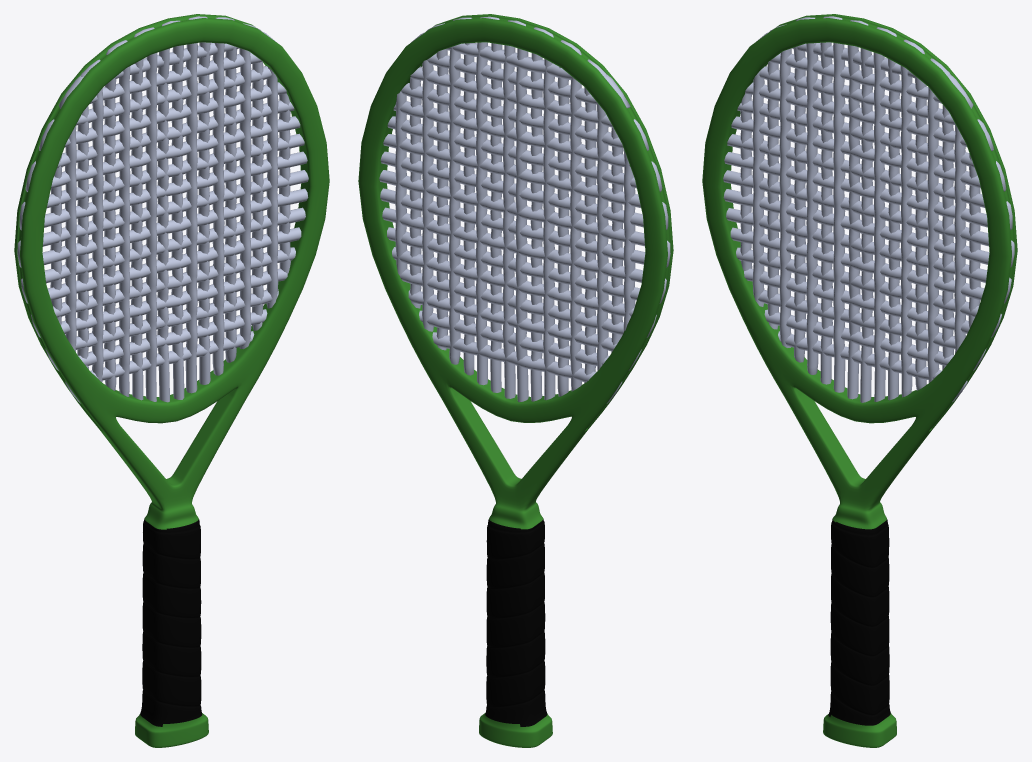
The model's file is racket.fbx.
The picture shows the model from 3 angles, left to right: view 1: azimuth 30°, elevation 25°; view 2: azimuth 150°, elevation 25°; view 3: azimuth 330°, elevation 25°; orthographic projection.
Parts seen in each view (by area): view 1: 15638_Tennis_Racket_v1; view 2: 15638_Tennis_Racket_v1; view 3: 15638_Tennis_Racket_v1.
Boxes of the visible parts, x1,y1,x2,y2 form: 15638_Tennis_Racket_v1: [14, 14, 329, 747]; 15638_Tennis_Racket_v1: [358, 14, 673, 747]; 15638_Tennis_Racket_v1: [702, 14, 1017, 747].
Bounding box in the file's own units: 1005 × 2227 × 162.
